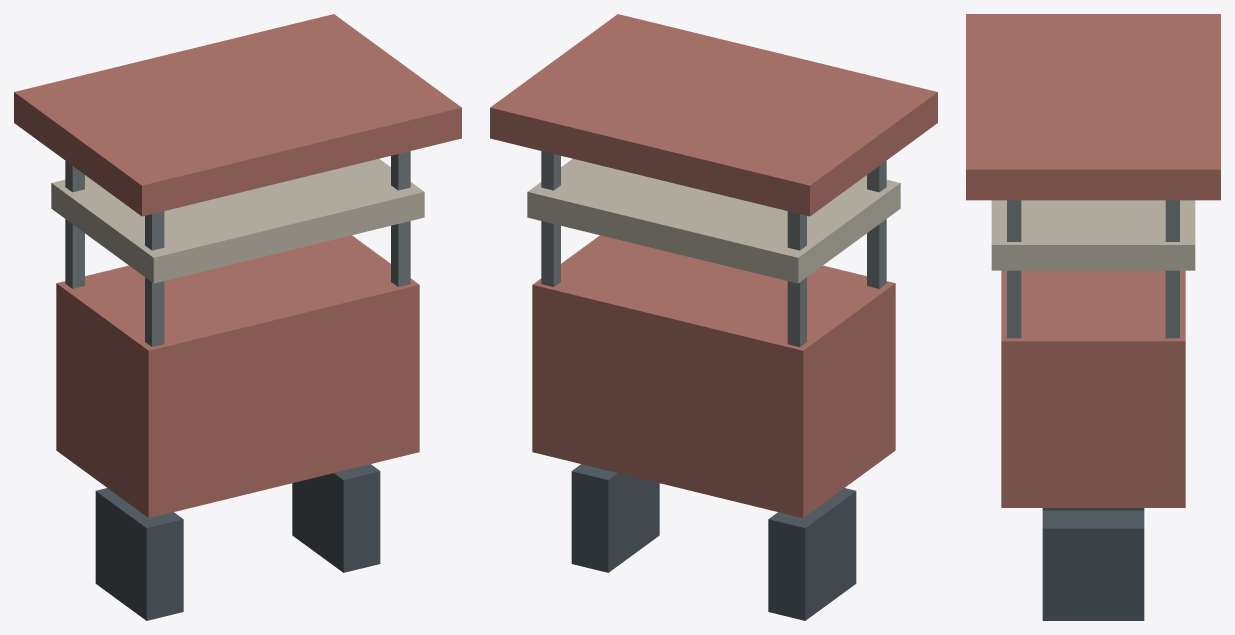
The model's file is simit_cart.glb.
3 renders of one model, left to right at view 1: azimuth 30°, elevation 25°; view 2: azimuth 150°, elevation 25°; view 3: azimuth 270°, elevation 25°, orthographic.
Visible parts, largest first — view 1: body; view 2: body; view 3: body.
Part boxes in pixels (x1=…): body: x1=14, y1=14, x2=461, y2=620; body: x1=490, y1=14, x2=937, y2=620; body: x1=966, y1=14, x2=1220, y2=620.
Size of the model in its own units: 1.3 by 1.84 by 0.9.
